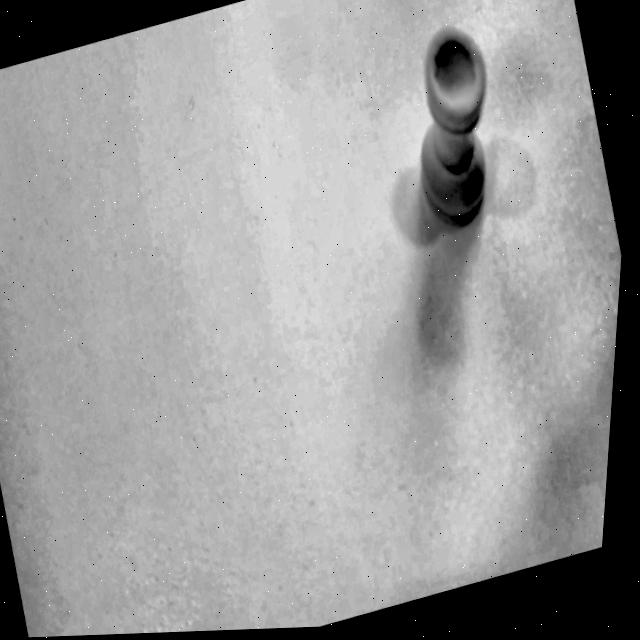white-rook: (342, 0, 573, 315)
